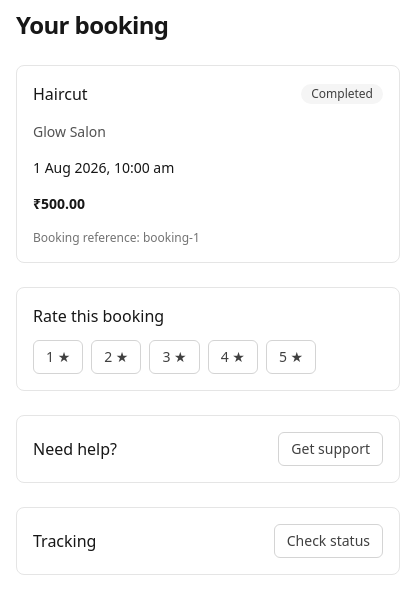
Test: BookingStatusPage › shows a rating prompt for a COMPLETE booking and submitting produces a real, visible confirmation
The image size is (417, 592).
Expected: the text "Rate this booking" is shown, [33, 305, 164, 327]
What coordinates should you click on to do the following:
click the button named "Rate 5 stars"
I would click on:
 (291, 357)
Its box is [266, 340, 316, 374].
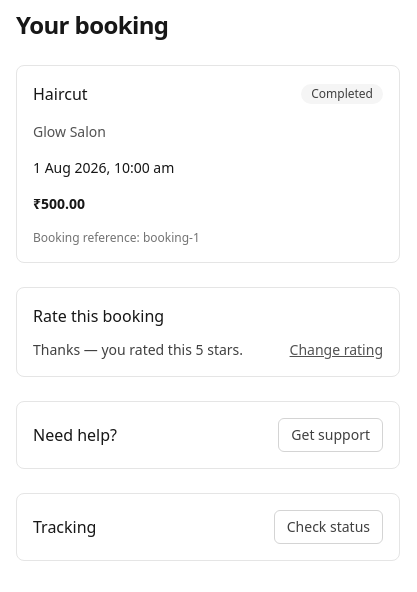
Now the text "Thanks — you rated this 5 stars." is shown, box [33, 340, 243, 360]
